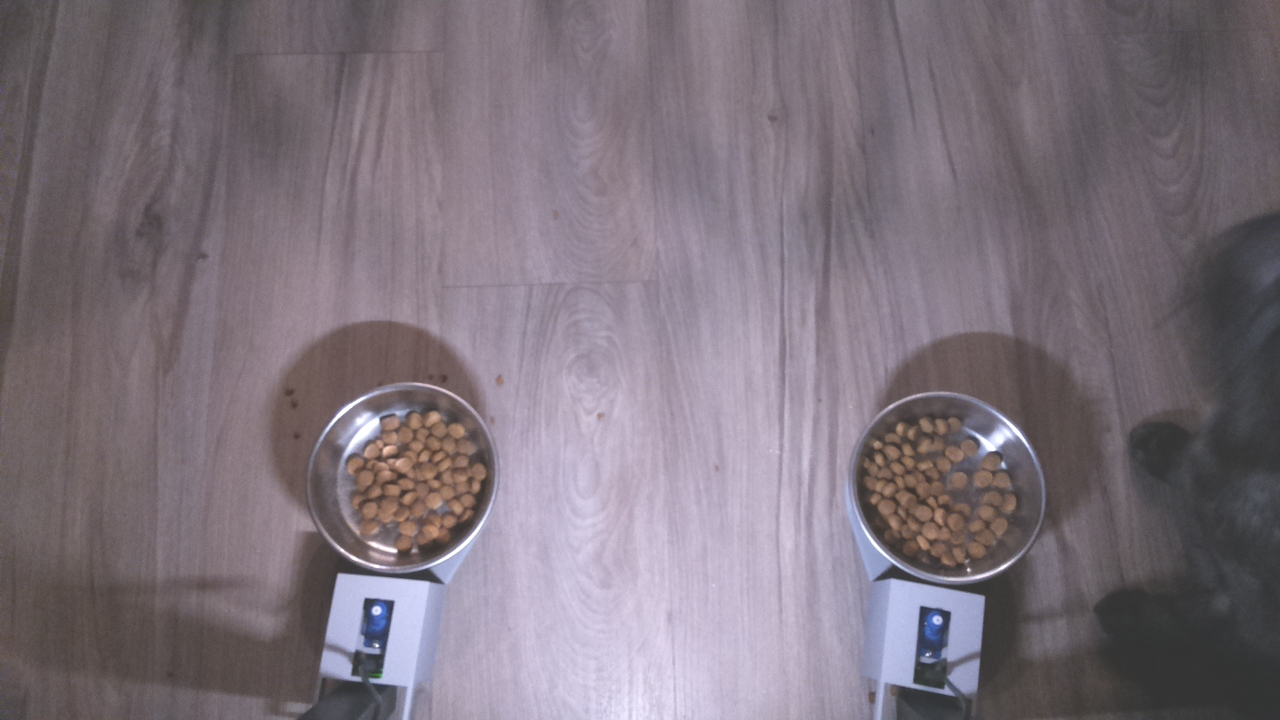open_bowl: (844, 389, 1062, 589), (308, 376, 497, 566)
